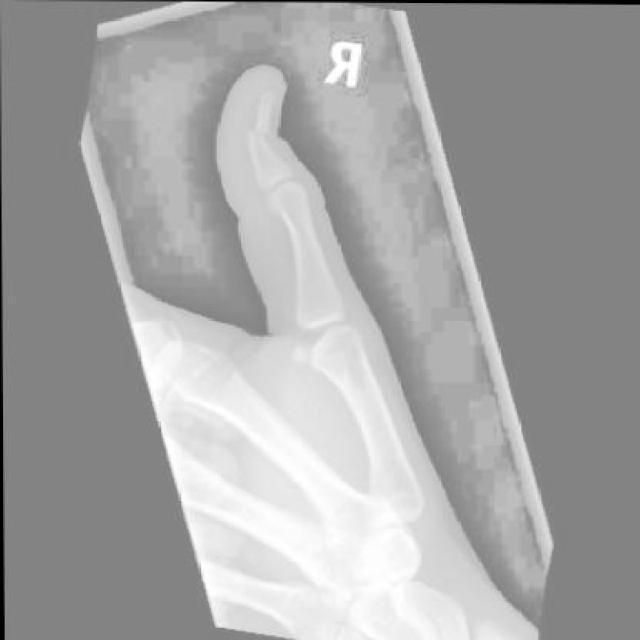Fracture: (228, 76, 300, 161)
